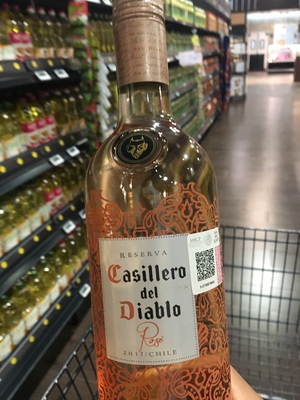casillero del diablo rose: (70, 9, 234, 393)
